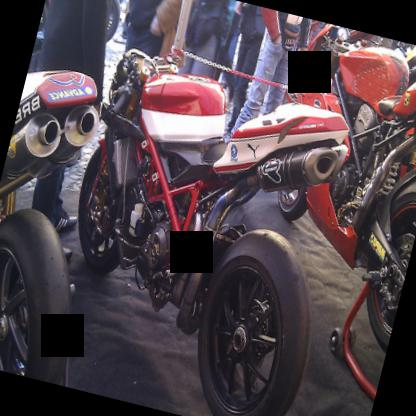backpack: (179, 0, 231, 51)
